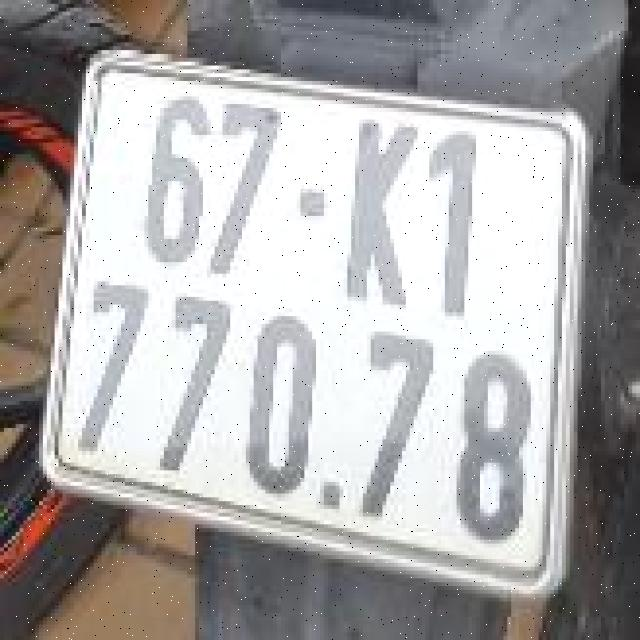0: (246, 314, 320, 507)
1: (431, 123, 490, 328)
6: (146, 87, 213, 268)
7: (152, 276, 234, 496), (357, 328, 443, 536), (60, 266, 146, 451), (213, 92, 283, 297)
8: (449, 343, 531, 563)
K: (336, 106, 422, 299)
